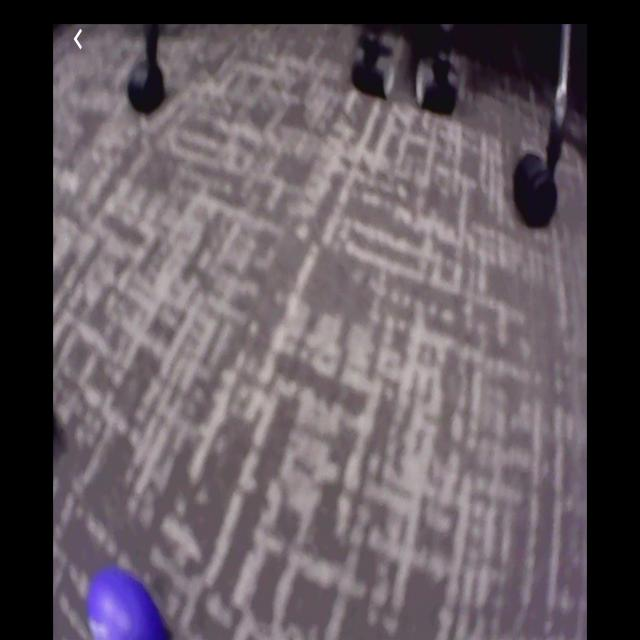ball: (85, 567, 173, 640)
